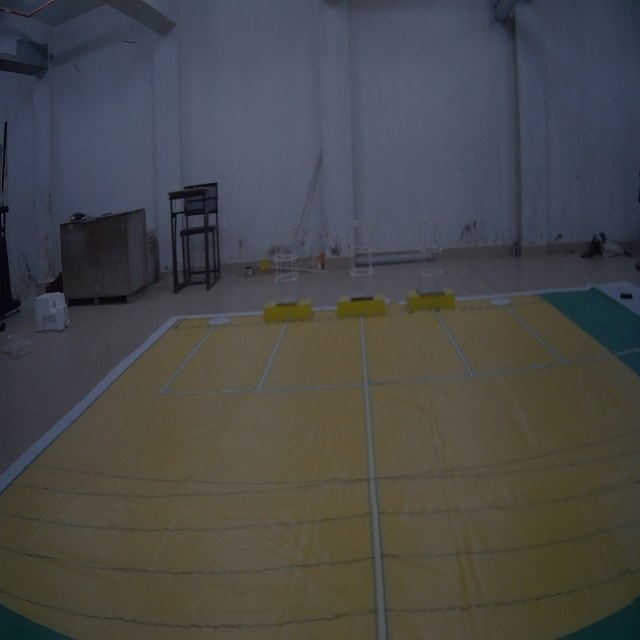silo: (268, 215, 302, 308), (345, 215, 377, 302), (417, 218, 445, 294)
